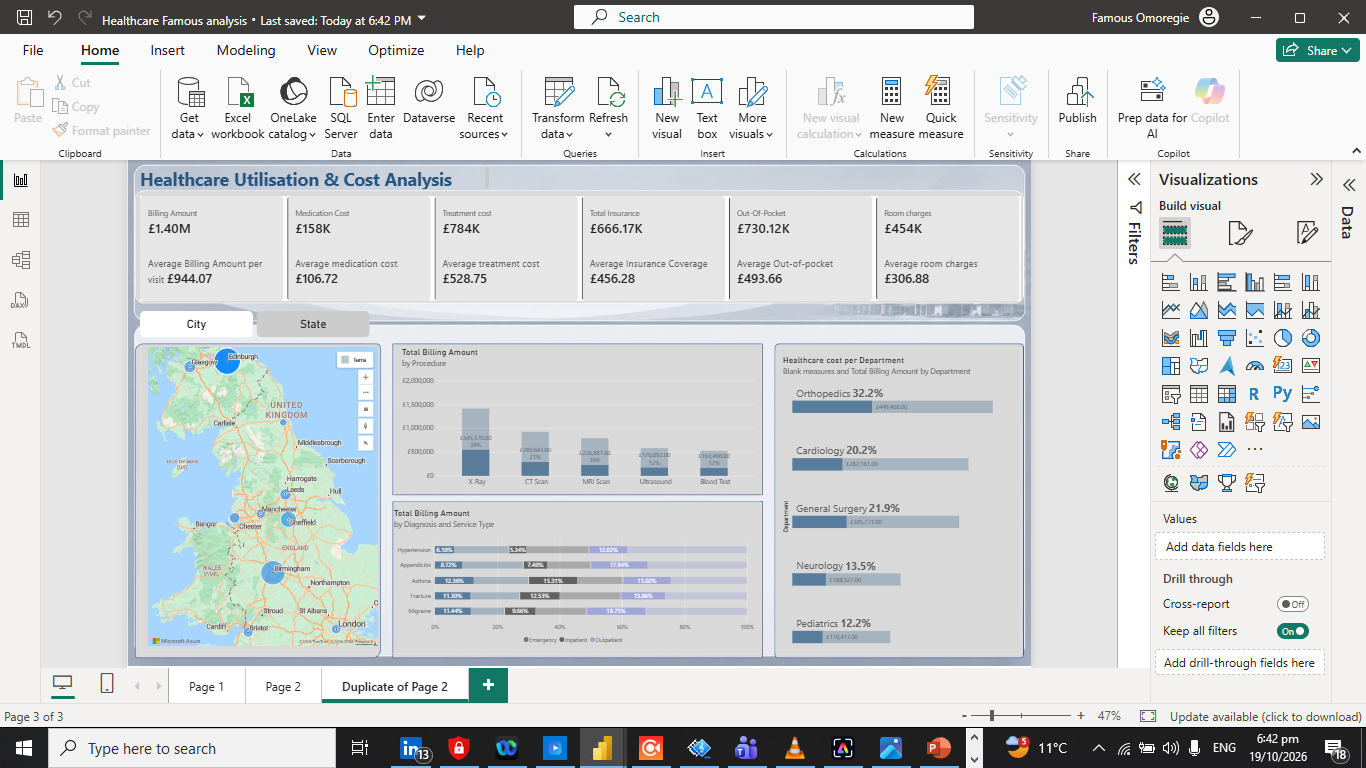

This screenshot's page, from the dashboard's own definition file:
{"tool":"powerbi","page":{"name":"Duplicate of Page 2","canvas":[1920,1080],"ordinal":2},"visuals":[{"type":"cardVisual","fields":{"Data":["Dax Calculation.Total Billing Amount","Dax Calculation.Total medication cost","Dax Calculation.Total Tratement cost","Dax Calculation.Total insurance cover","Dax Calculation.Out-Of-Pocket","Dax Calculation.My total room charges"]},"box":[27.6,76.5,1873,223.2],"z":0},{"type":"azureMap","fields":{"Category":["cities.State"],"Size":["Dax Calculation.Total Billing Amount"]},"box":[27.6,382.7,523,667.6],"z":1000},{"type":"advancedSlicerVisual","fields":{"Values":["Patient's Location Switch.Patient's Location Switch"]},"box":[27.6,338,523,61.7],"z":2000},{"type":"clusteredColumnChart","fields":{"Category":["procedures.Procedure"],"Y":["Dax Calculation.Total Billing Amount"]},"box":[567.6,382.7,782.4,333.8],"z":3000},{"type":"hundredPercentStackedBarChart","fields":{"Category":["diagnoses.Diagnosis"],"Series":["visits.Service Type"],"Y":["Dax Calculation.Total Billing Amount"]},"box":[550.6,725,799.4,325.3],"z":4000},{"type":"clusteredBarChart","title":"Healthcare cost per Department","fields":{"Category":["departments.Department"],"Y":["Dax Calculation.Blank measures","Dax Calculation.Total Billing Amount"]},"box":[1377.6,382.7,523,667.6],"z":5000},{"type":"textbox","box":[27.6,14.9,742,46.8],"z":6000}]}

Visuals, with their boxes on the page's 1920x1080 design canvas (x1, y1, x2, y2). These are canvas units, not pixel positions in the 1366x768 screenshot, which may show the page scaled, cropped or inside an application window:
cardVisual - Dax Calculation.Total Billing Amount x Dax Calculation.Total medication cost: Rect(28, 76, 1901, 300)
azureMap - cities.State x Dax Calculation.Total Billing Amount: Rect(28, 383, 551, 1050)
advancedSlicerVisual - Patient's Location Switch.Patient's Location Switch: Rect(28, 338, 551, 400)
clusteredColumnChart - procedures.Procedure x Dax Calculation.Total Billing Amount: Rect(568, 383, 1350, 716)
hundredPercentStackedBarChart - diagnoses.Diagnosis x visits.Service Type: Rect(551, 725, 1350, 1050)
"Healthcare cost per Department" clusteredBarChart: Rect(1378, 383, 1901, 1050)
textbox: Rect(28, 15, 770, 62)
